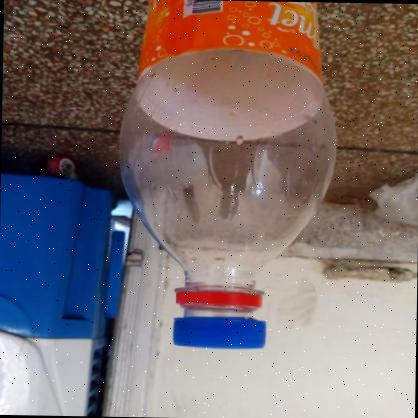bottle: (123, 0, 355, 360)
cap: (159, 282, 278, 353)
label: (134, 0, 339, 88)
